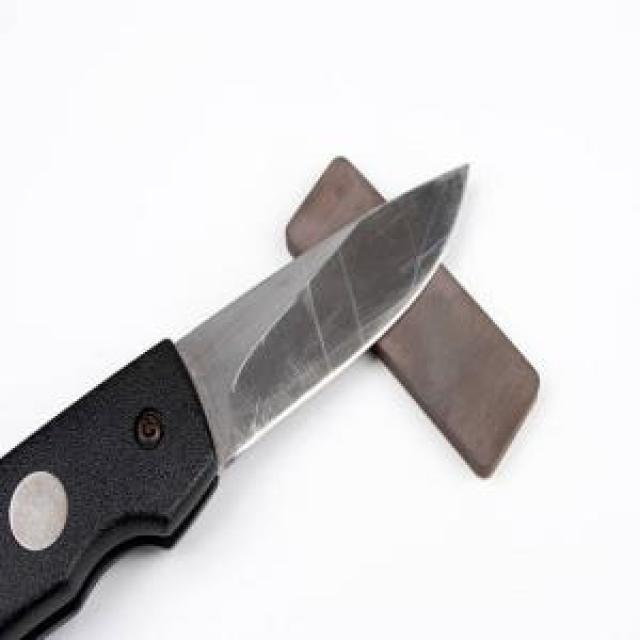knife: (0, 145, 493, 638)
